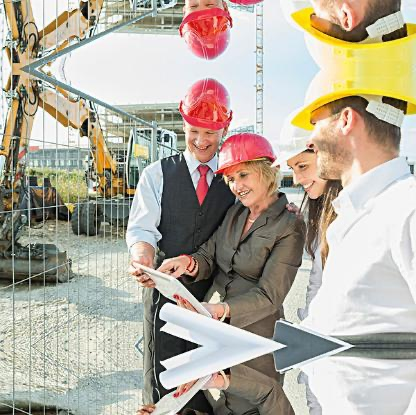Safety Helmet: (289, 49, 416, 184), (270, 93, 336, 216), (167, 73, 242, 165), (213, 124, 279, 213), (166, 1, 239, 66)
